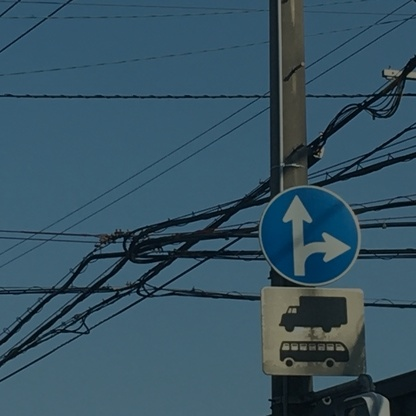Direction_sign: (255, 181, 356, 281)
